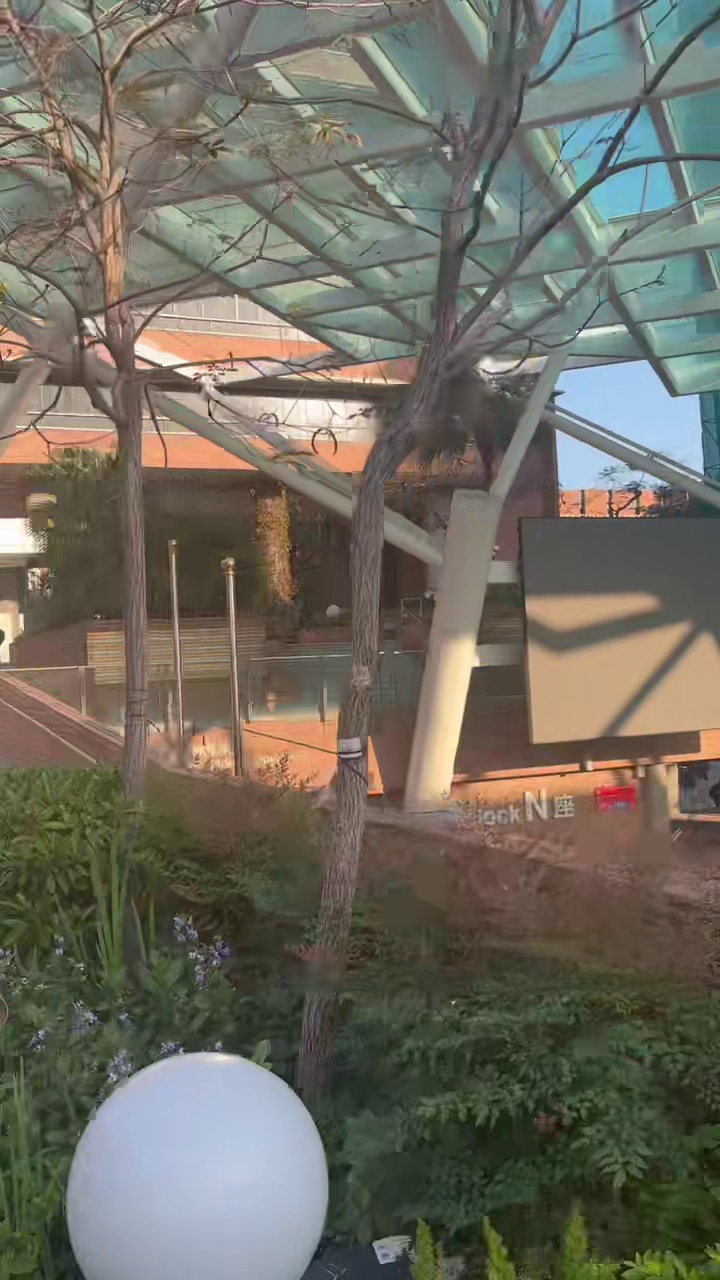Tabebuia chrysantha: (297, 0, 719, 1103)
